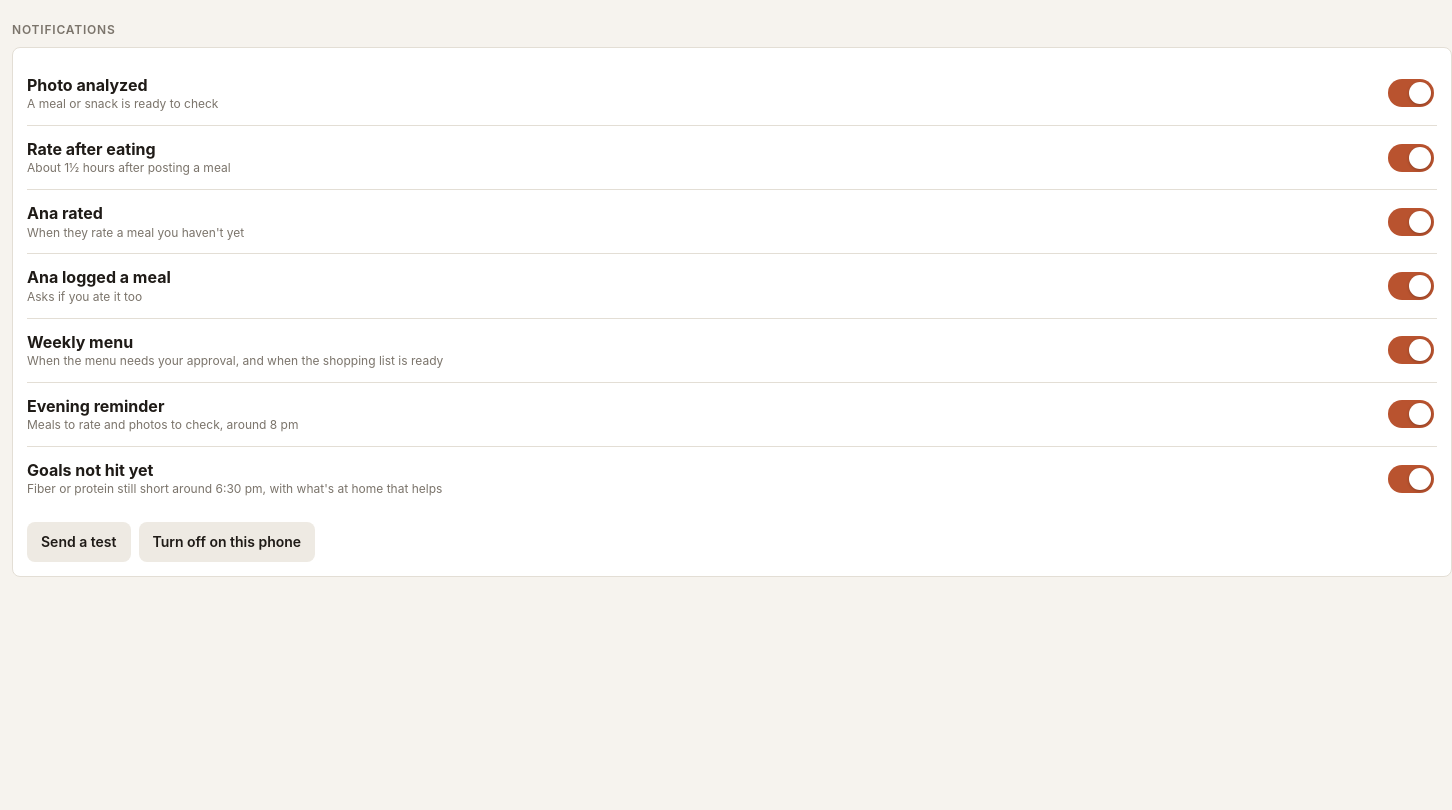
Scenario: NotificationSettings › when on › sends a test notification
Click the button "Send a test": click(79, 542) [27,522,130,562]
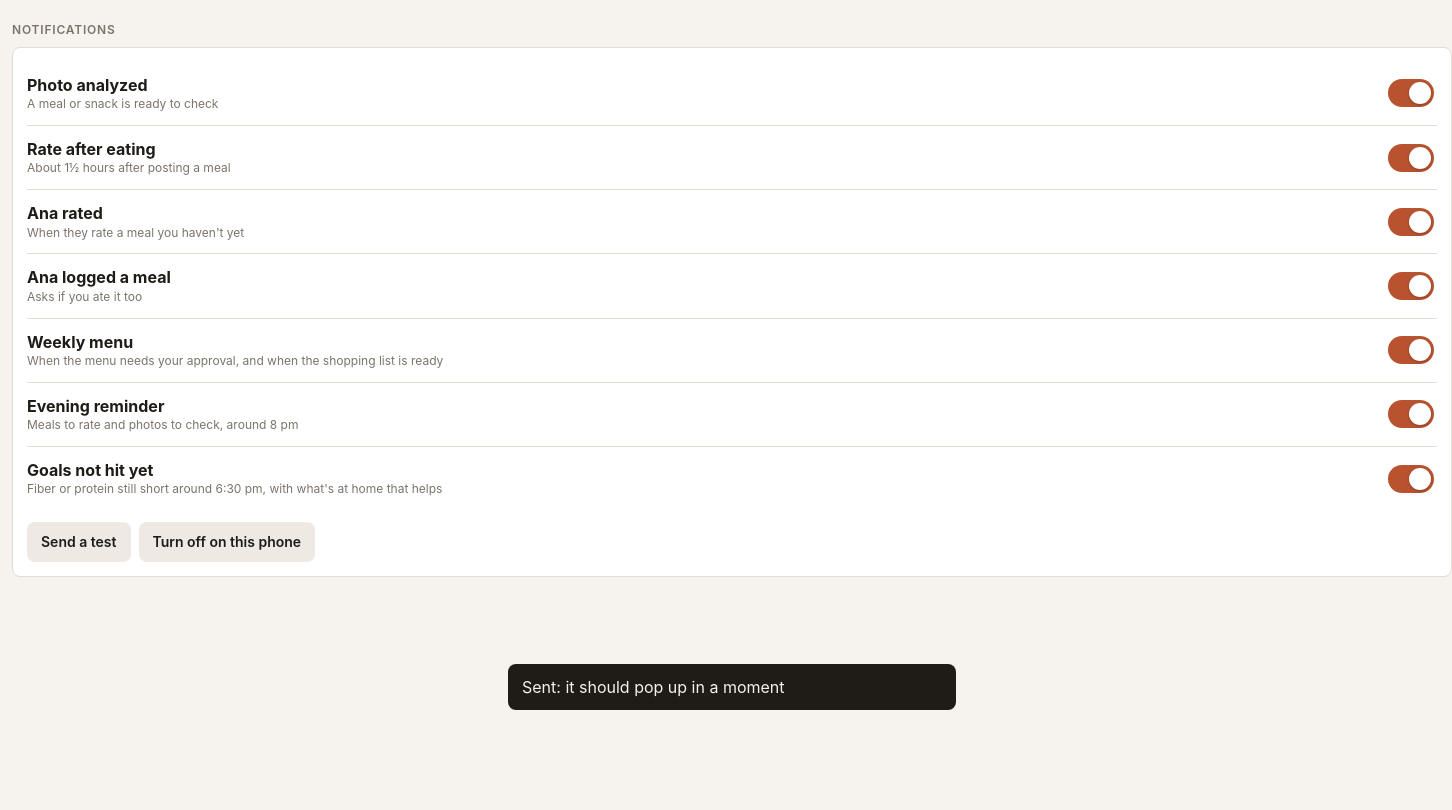
expect the text "Sent: it should pop up in a moment" is shown: met, box [522,677,784,697]
